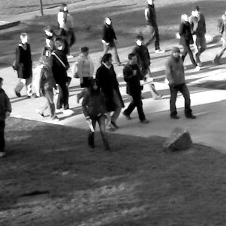person: (95, 53, 125, 130), (165, 47, 196, 119), (83, 78, 111, 153), (132, 35, 162, 100), (123, 53, 150, 124), (37, 46, 60, 121), (12, 32, 36, 98), (53, 38, 72, 110), (73, 46, 95, 103), (179, 13, 200, 71), (101, 16, 122, 66), (144, 1, 164, 53), (190, 4, 205, 65), (1, 77, 11, 158), (45, 24, 71, 55), (58, 4, 76, 47), (214, 9, 226, 64), (42, 36, 56, 56)
